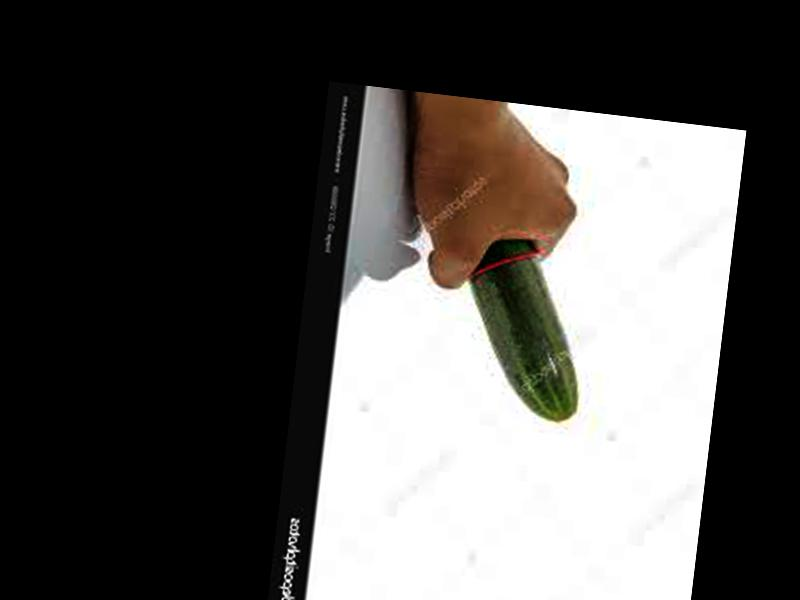Cucumber: (455, 234, 595, 423)
